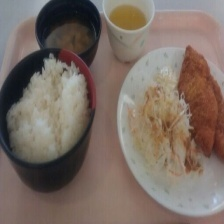rice: (3, 51, 91, 162)
